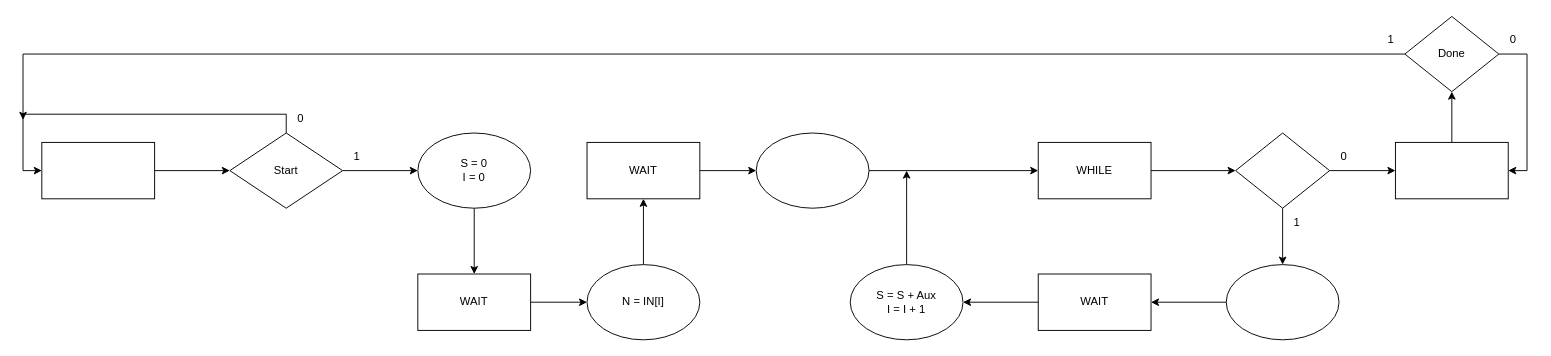
Image size: 1551x356. Some labels were removed from this diagram. The shapes that lost their labels are listed below. From the top down, each one's centre as x and y in pixels, then its label:
At (98,170): "IDLE".
At (812,170): "I = I + 1".
At (1282,170): "I <= N".
At (1451,170): "END".
At (1282,302): "Aux = IN[I] * IN[I]".
